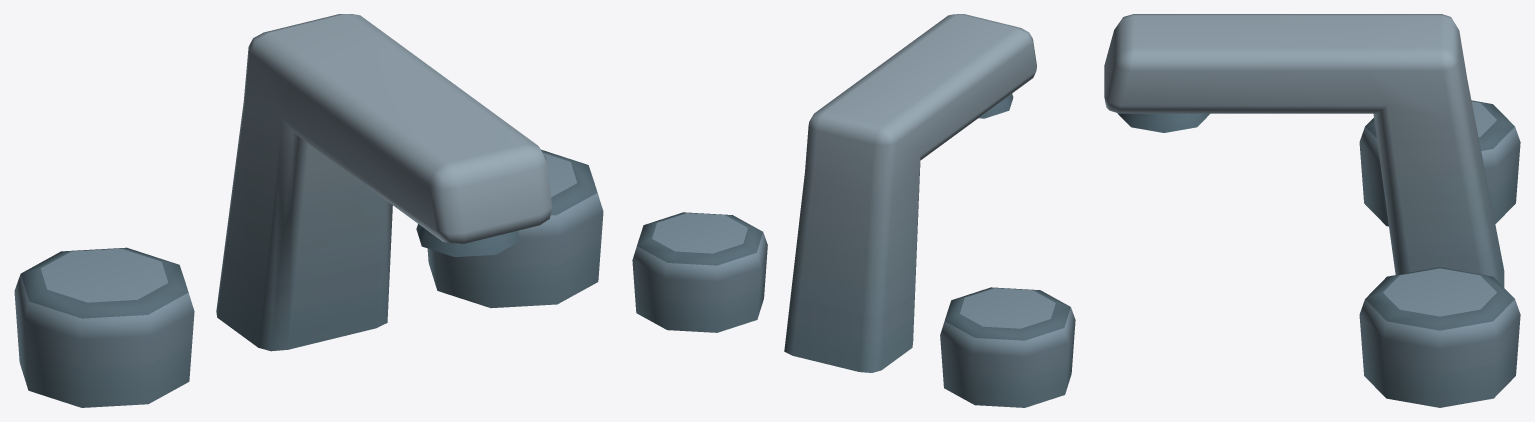
Rendered from Mixer_01.glb.
The picture shows the model from 3 angles, left to right: view 1: azimuth 30°, elevation 25°; view 2: azimuth 150°, elevation 25°; view 3: azimuth 270°, elevation 25°; orthographic projection. The views are drawn at different scales.
Parts seen in each view (by area): view 1: Mixer_01; view 2: Mixer_01; view 3: Mixer_01.
Boxes of the visible parts, x1,y1,x2,y2 form: Mixer_01: (14, 14, 603, 407); Mixer_01: (632, 14, 1075, 407); Mixer_01: (1104, 14, 1520, 407).
Size of the model in its own units: 0.2834 by 0.1418 by 0.2073.
1 material, 1 textured.
